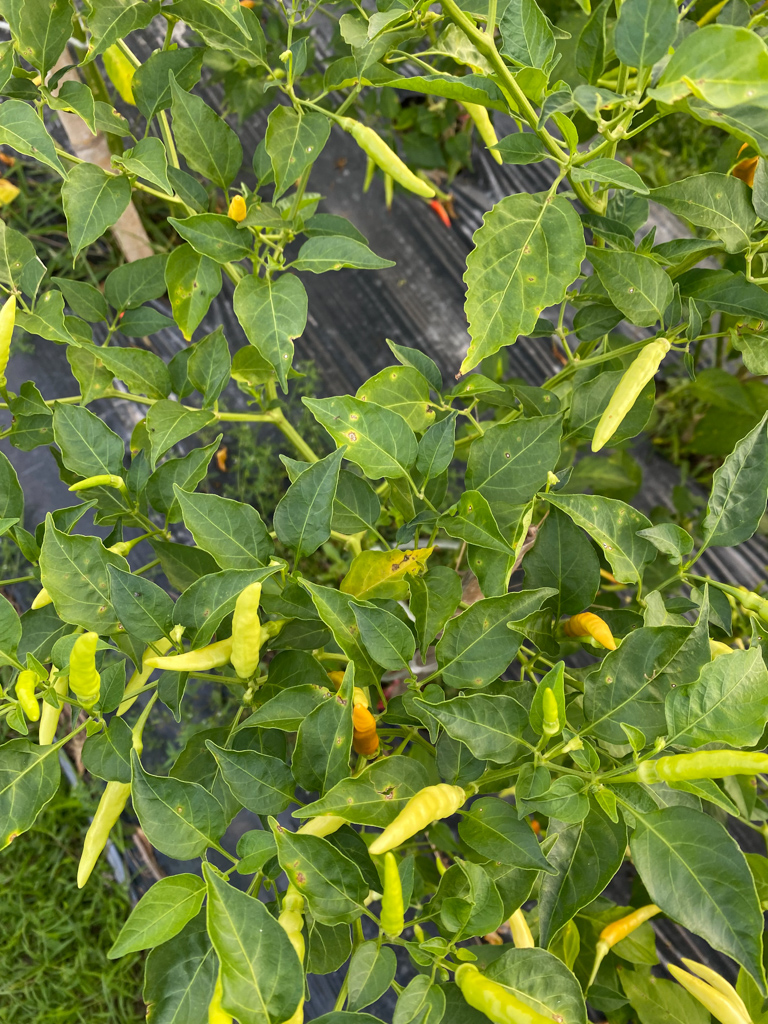frog-eye leafspot: (518, 238, 543, 292), (337, 408, 365, 445), (172, 276, 201, 311), (312, 683, 348, 710), (286, 855, 312, 888), (388, 551, 414, 575), (170, 798, 189, 824), (598, 669, 618, 689), (499, 443, 515, 465), (330, 731, 345, 752), (469, 674, 488, 687), (463, 501, 476, 512), (473, 556, 484, 568), (388, 370, 399, 380), (359, 393, 369, 402)
